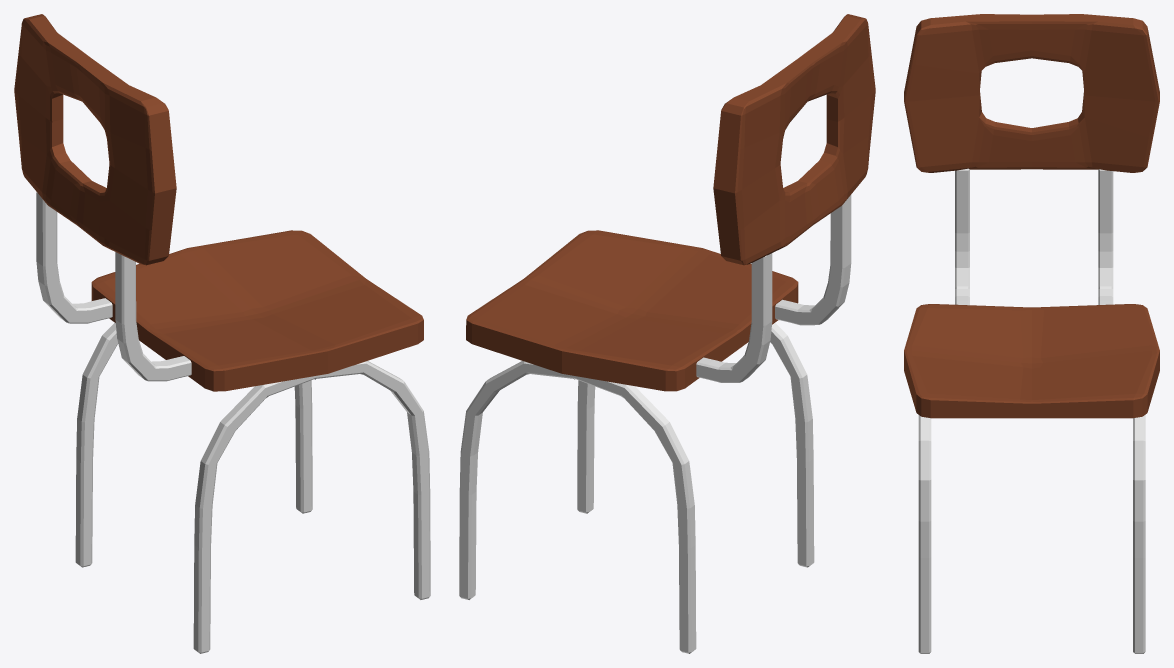
The model's file is Aula_Silla.fbx.
The picture shows the model from 3 angles, left to right: view 1: azimuth 30°, elevation 25°; view 2: azimuth 150°, elevation 25°; view 3: azimuth 270°, elevation 25°; orthographic projection. The views are drawn at different scales.
Visible parts, largest first — view 1: Aula_Silla; view 2: Aula_Silla; view 3: Aula_Silla.
Part boxes in pixels (<box>): Aula_Silla: <box>14,14,430,653</box>; Aula_Silla: <box>459,14,875,653</box>; Aula_Silla: <box>904,14,1159,653</box>.
Size of the model in its own units: 271 by 494 by 225.
